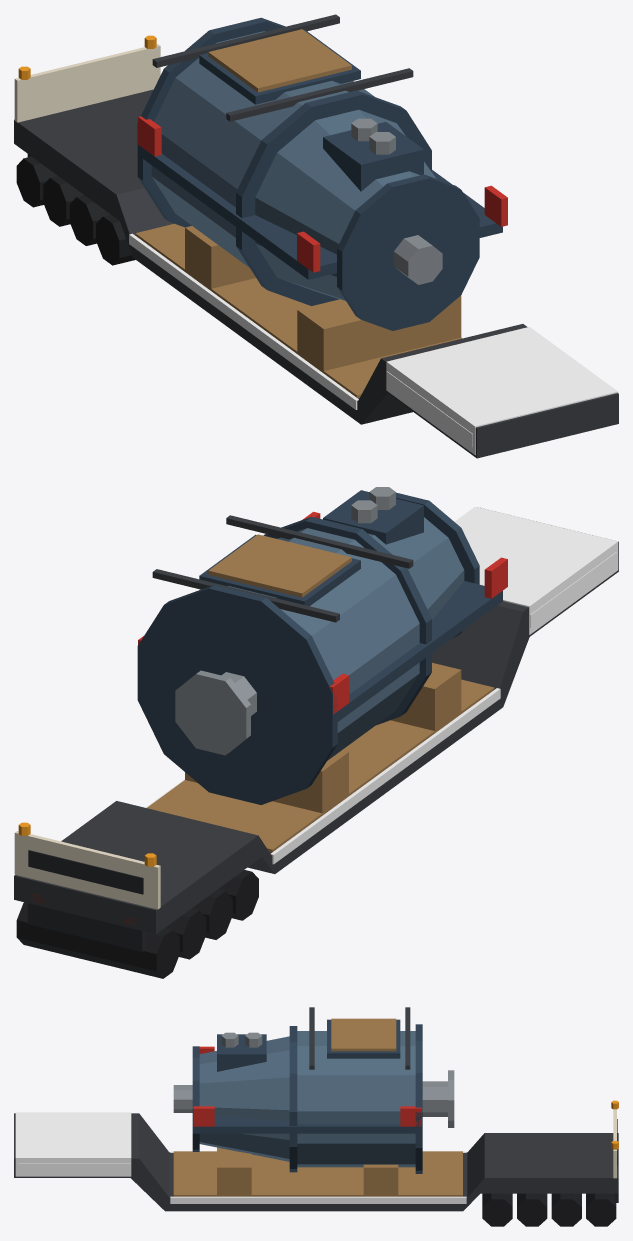
Rendered from ll_trailer_turbine.glb.
The picture shows the model from 3 angles, top to bottom: view 1: azimuth 30°, elevation 25°; view 2: azimuth 150°, elevation 25°; view 3: azimuth 270°, elevation 25°; orthographic projection. The views are drawn at different scales.
Visible parts, largest first — view 1: model; view 2: model; view 3: model.
Part boxes in pixels (x1,y1,x2,y2): model: (14, 14, 618, 458); model: (14, 487, 618, 978); model: (14, 1007, 618, 1226).
Size of the model in its own units: 3.4 by 4.39 by 14.01.
